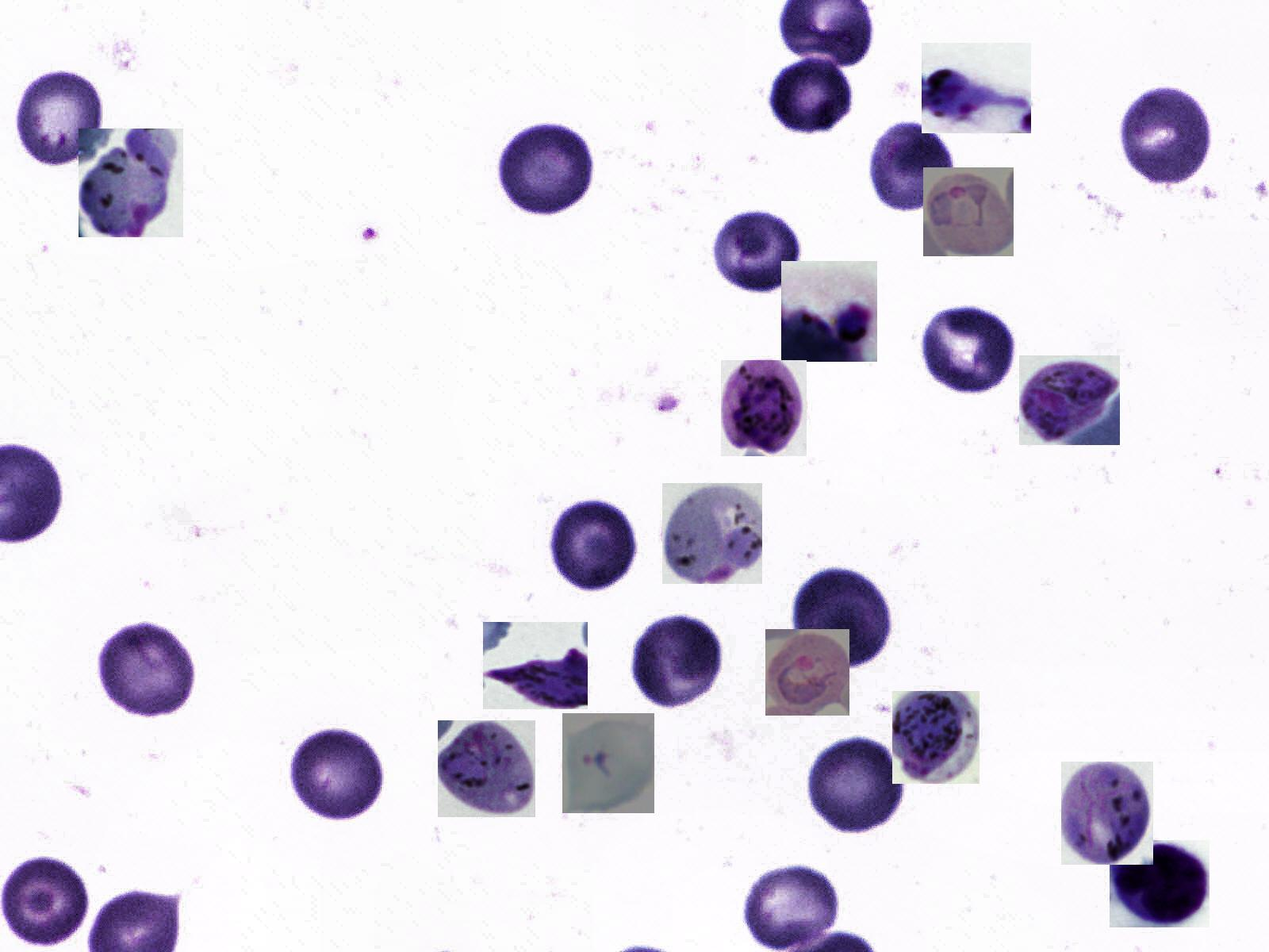Infected: (79, 129, 183, 237), (662, 483, 762, 584), (922, 43, 1031, 133), (781, 261, 877, 362), (1061, 762, 1153, 865), (438, 721, 535, 817), (562, 713, 654, 813), (16, 67, 106, 169), (483, 622, 588, 709), (1019, 355, 1120, 445), (1110, 840, 1210, 927), (721, 360, 807, 456), (892, 691, 980, 784), (923, 167, 1014, 256), (765, 629, 849, 716)
Uninfected: (790, 563, 895, 668), (1121, 81, 1218, 190), (807, 735, 903, 837), (97, 620, 196, 717), (740, 860, 843, 951), (868, 117, 957, 221), (287, 727, 383, 823), (547, 497, 643, 592), (496, 123, 593, 215), (633, 612, 726, 706), (0, 854, 90, 951), (920, 305, 1015, 394), (711, 209, 801, 293), (769, 58, 856, 132)
